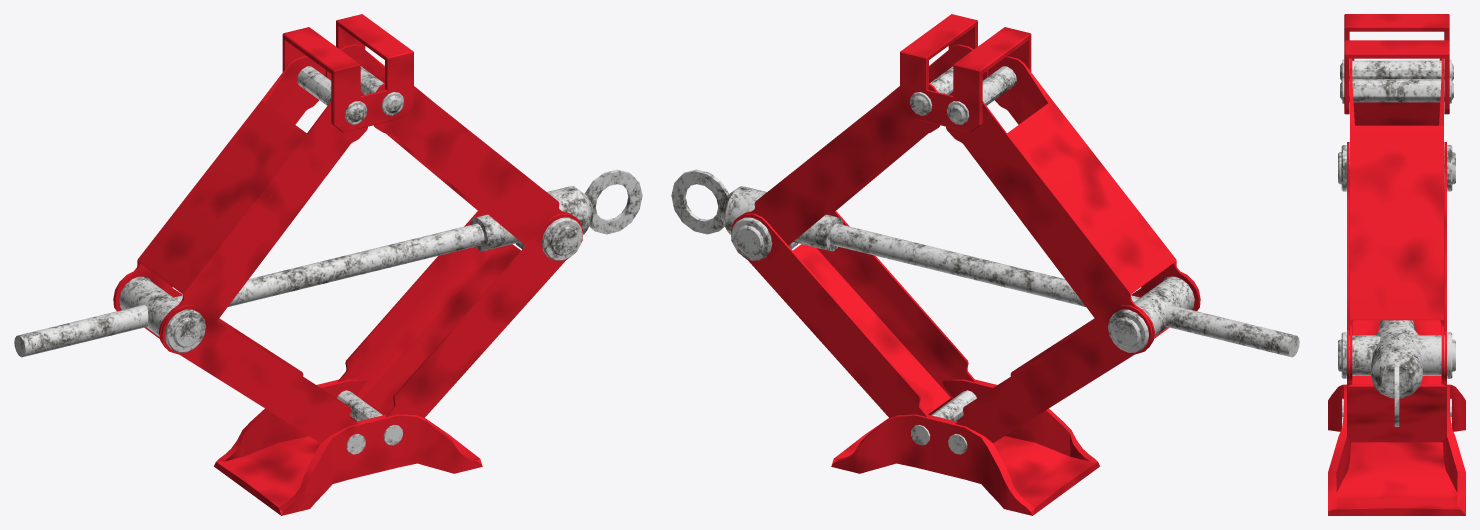
The model's file is Car Jack 2_Baked 1k.fbx.
The picture shows the model from 3 angles, left to right: view 1: azimuth 30°, elevation 25°; view 2: azimuth 150°, elevation 25°; view 3: azimuth 270°, elevation 25°; orthographic projection.
Visible parts, largest first — view 1: Car Jack 2_Baked 1k; view 2: Car Jack 2_Baked 1k; view 3: Car Jack 2_Baked 1k.
Part boxes in pixels (box(x1,y1,x2,y2)): Car Jack 2_Baked 1k: box(14, 14, 642, 515); Car Jack 2_Baked 1k: box(671, 14, 1299, 515); Car Jack 2_Baked 1k: box(1328, 14, 1465, 515).
Size of the model in its own units: 84.99 by 55.48 by 16.02.
